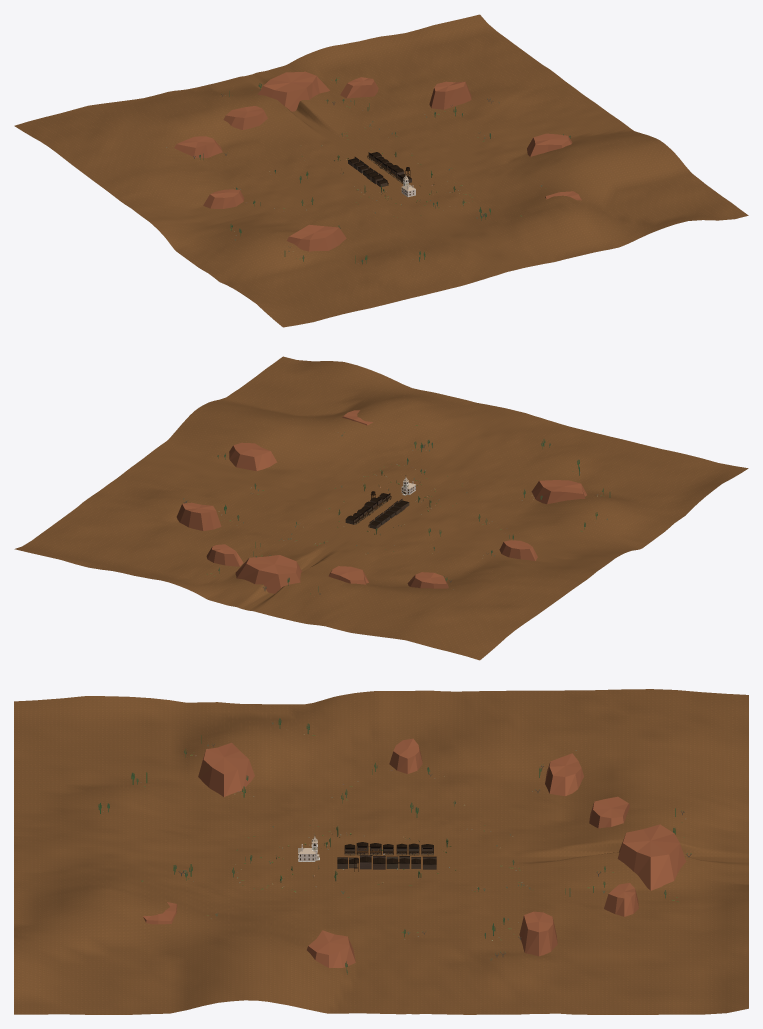
File: duel.glb
3 views of the same model, one above another, from view 1: azimuth 30°, elevation 25°; view 2: azimuth 150°, elevation 25°; view 3: azimuth 270°, elevation 25° (orthographic). The views are drawn at different scales.
Visible parts, largest first — view 1: ground, object 13, trim; view 2: ground, object 13, trim; view 3: ground, object 13, trim, walls.
Part boxes in pixels (x1=…): ground: x1=14, y1=14, x2=748, y2=327; object 13: x1=174, y1=71, x2=581, y2=251; trim: x1=348, y1=152, x2=411, y2=185; ground: x1=14, y1=356, x2=748, y2=660; object 13: x1=176, y1=410, x2=586, y2=593; trim: x1=346, y1=480, x2=408, y2=527; ground: x1=14, y1=689, x2=748, y2=1014; object 13: x1=143, y1=738, x2=686, y2=967; trim: x1=313, y1=840, x2=436, y2=864; walls: x1=337, y1=846, x2=436, y2=869.
Bounding box in the file's own units: 700 × 29.24 × 700.
Materials: 13 (7 with a texture image).
